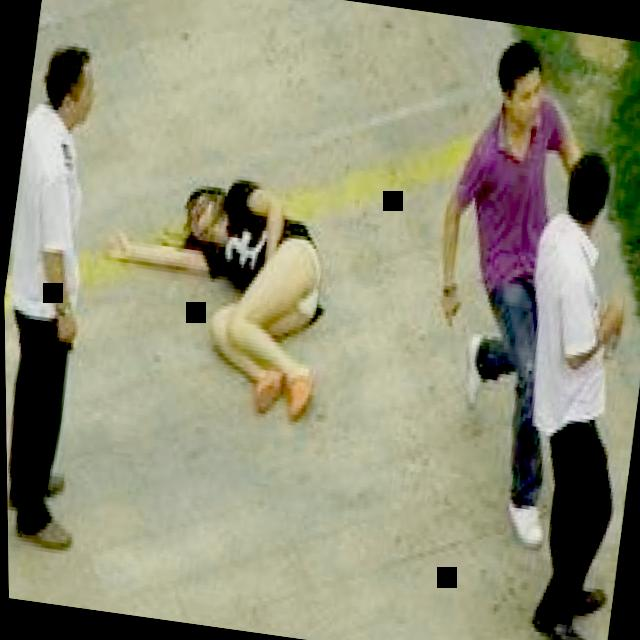Fall-Detected: (81, 134, 369, 428)
